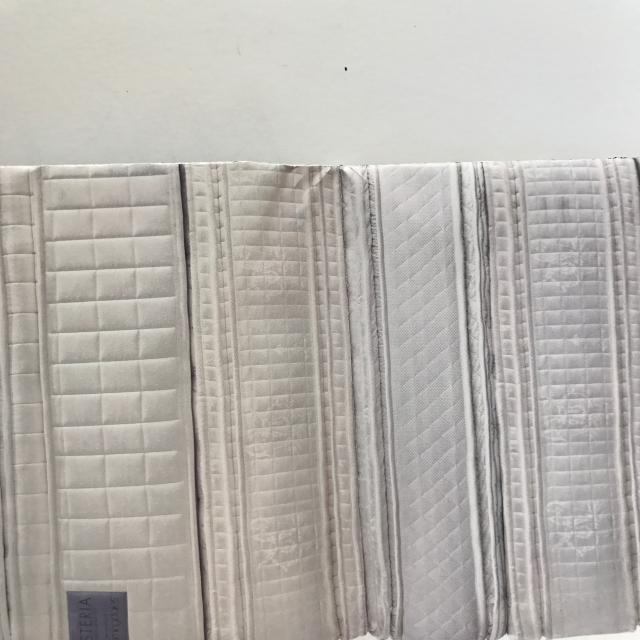Paper: (3, 137, 640, 640)
